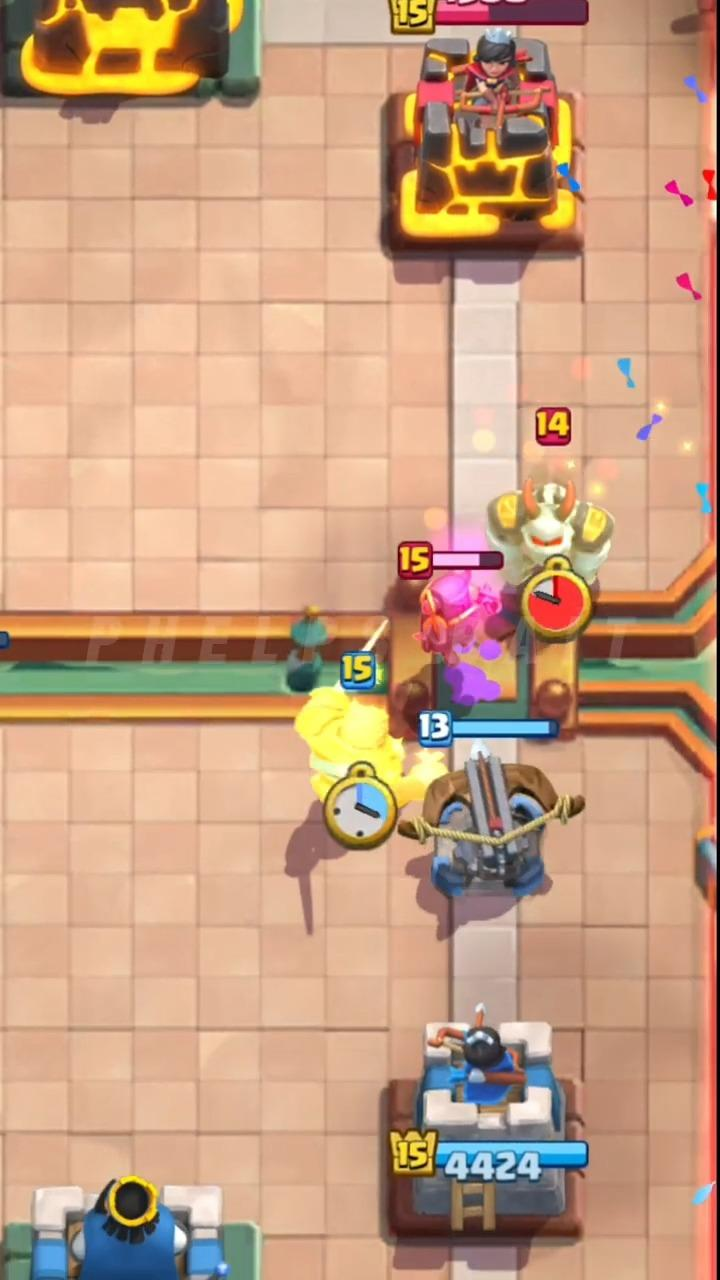knight: (295, 688, 444, 808)
mega minion: (487, 477, 614, 637)
mini pekka: (415, 570, 483, 664)
x-bow: (401, 741, 583, 897)
